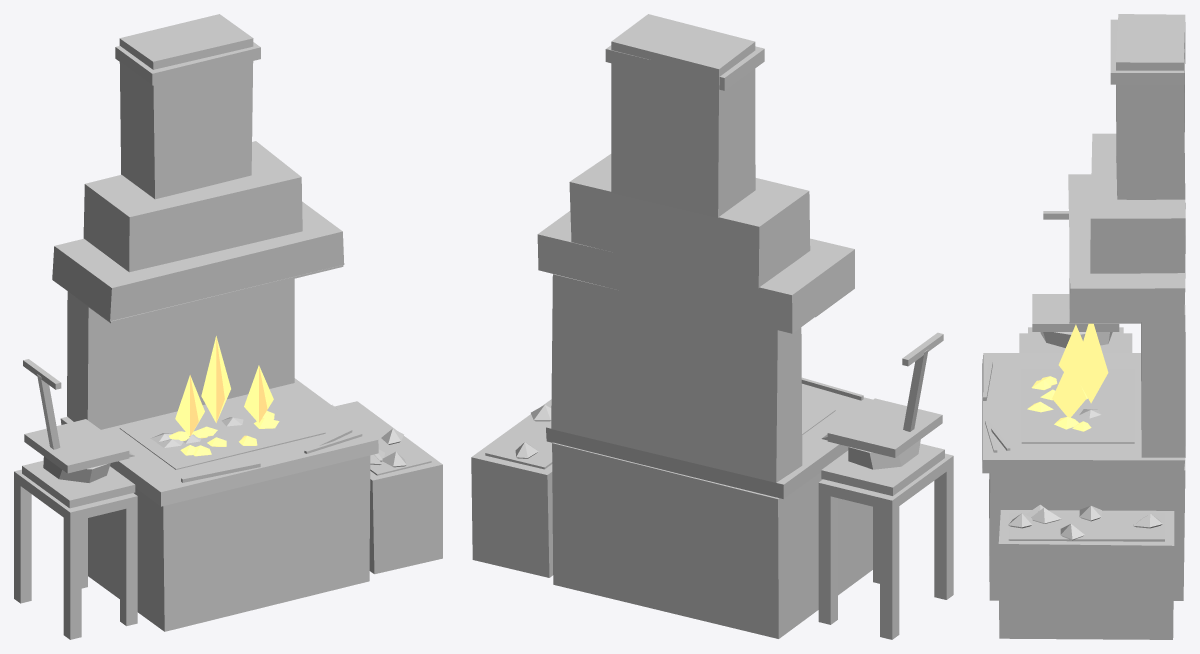
The model's file is building.smithy_forge.glb.
3 renders of one model, left to right at view 1: azimuth 30°, elevation 25°; view 2: azimuth 150°, elevation 25°; view 3: azimuth 270°, elevation 25°, orthographic. The views are drawn at different scales.
Parts seen in each view (by area): view 1: building.smithy_forge, fire; view 2: building.smithy_forge; view 3: building.smithy_forge, fire.
Boxes of the visible parts, bbox=[...] form: building.smithy_forge: bbox=[14, 14, 442, 639]; fire: bbox=[169, 336, 279, 456]; building.smithy_forge: bbox=[471, 14, 953, 639]; building.smithy_forge: bbox=[982, 14, 1185, 639]; fire: bbox=[1027, 323, 1108, 431].
Size of the model in its own units: 1.96 by 2.61 by 0.9373.
